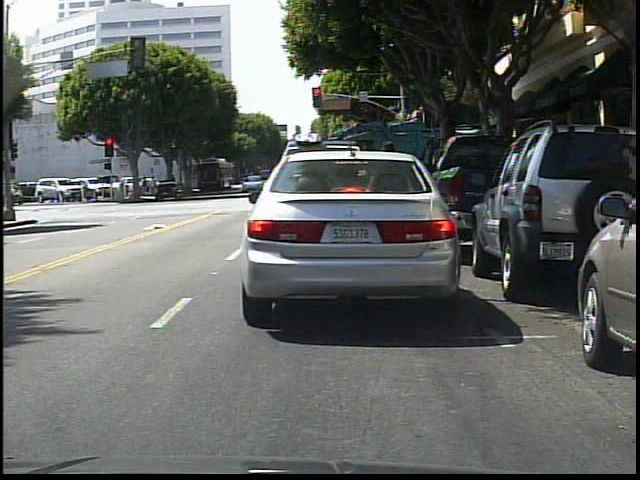person: (369, 141, 407, 264)
